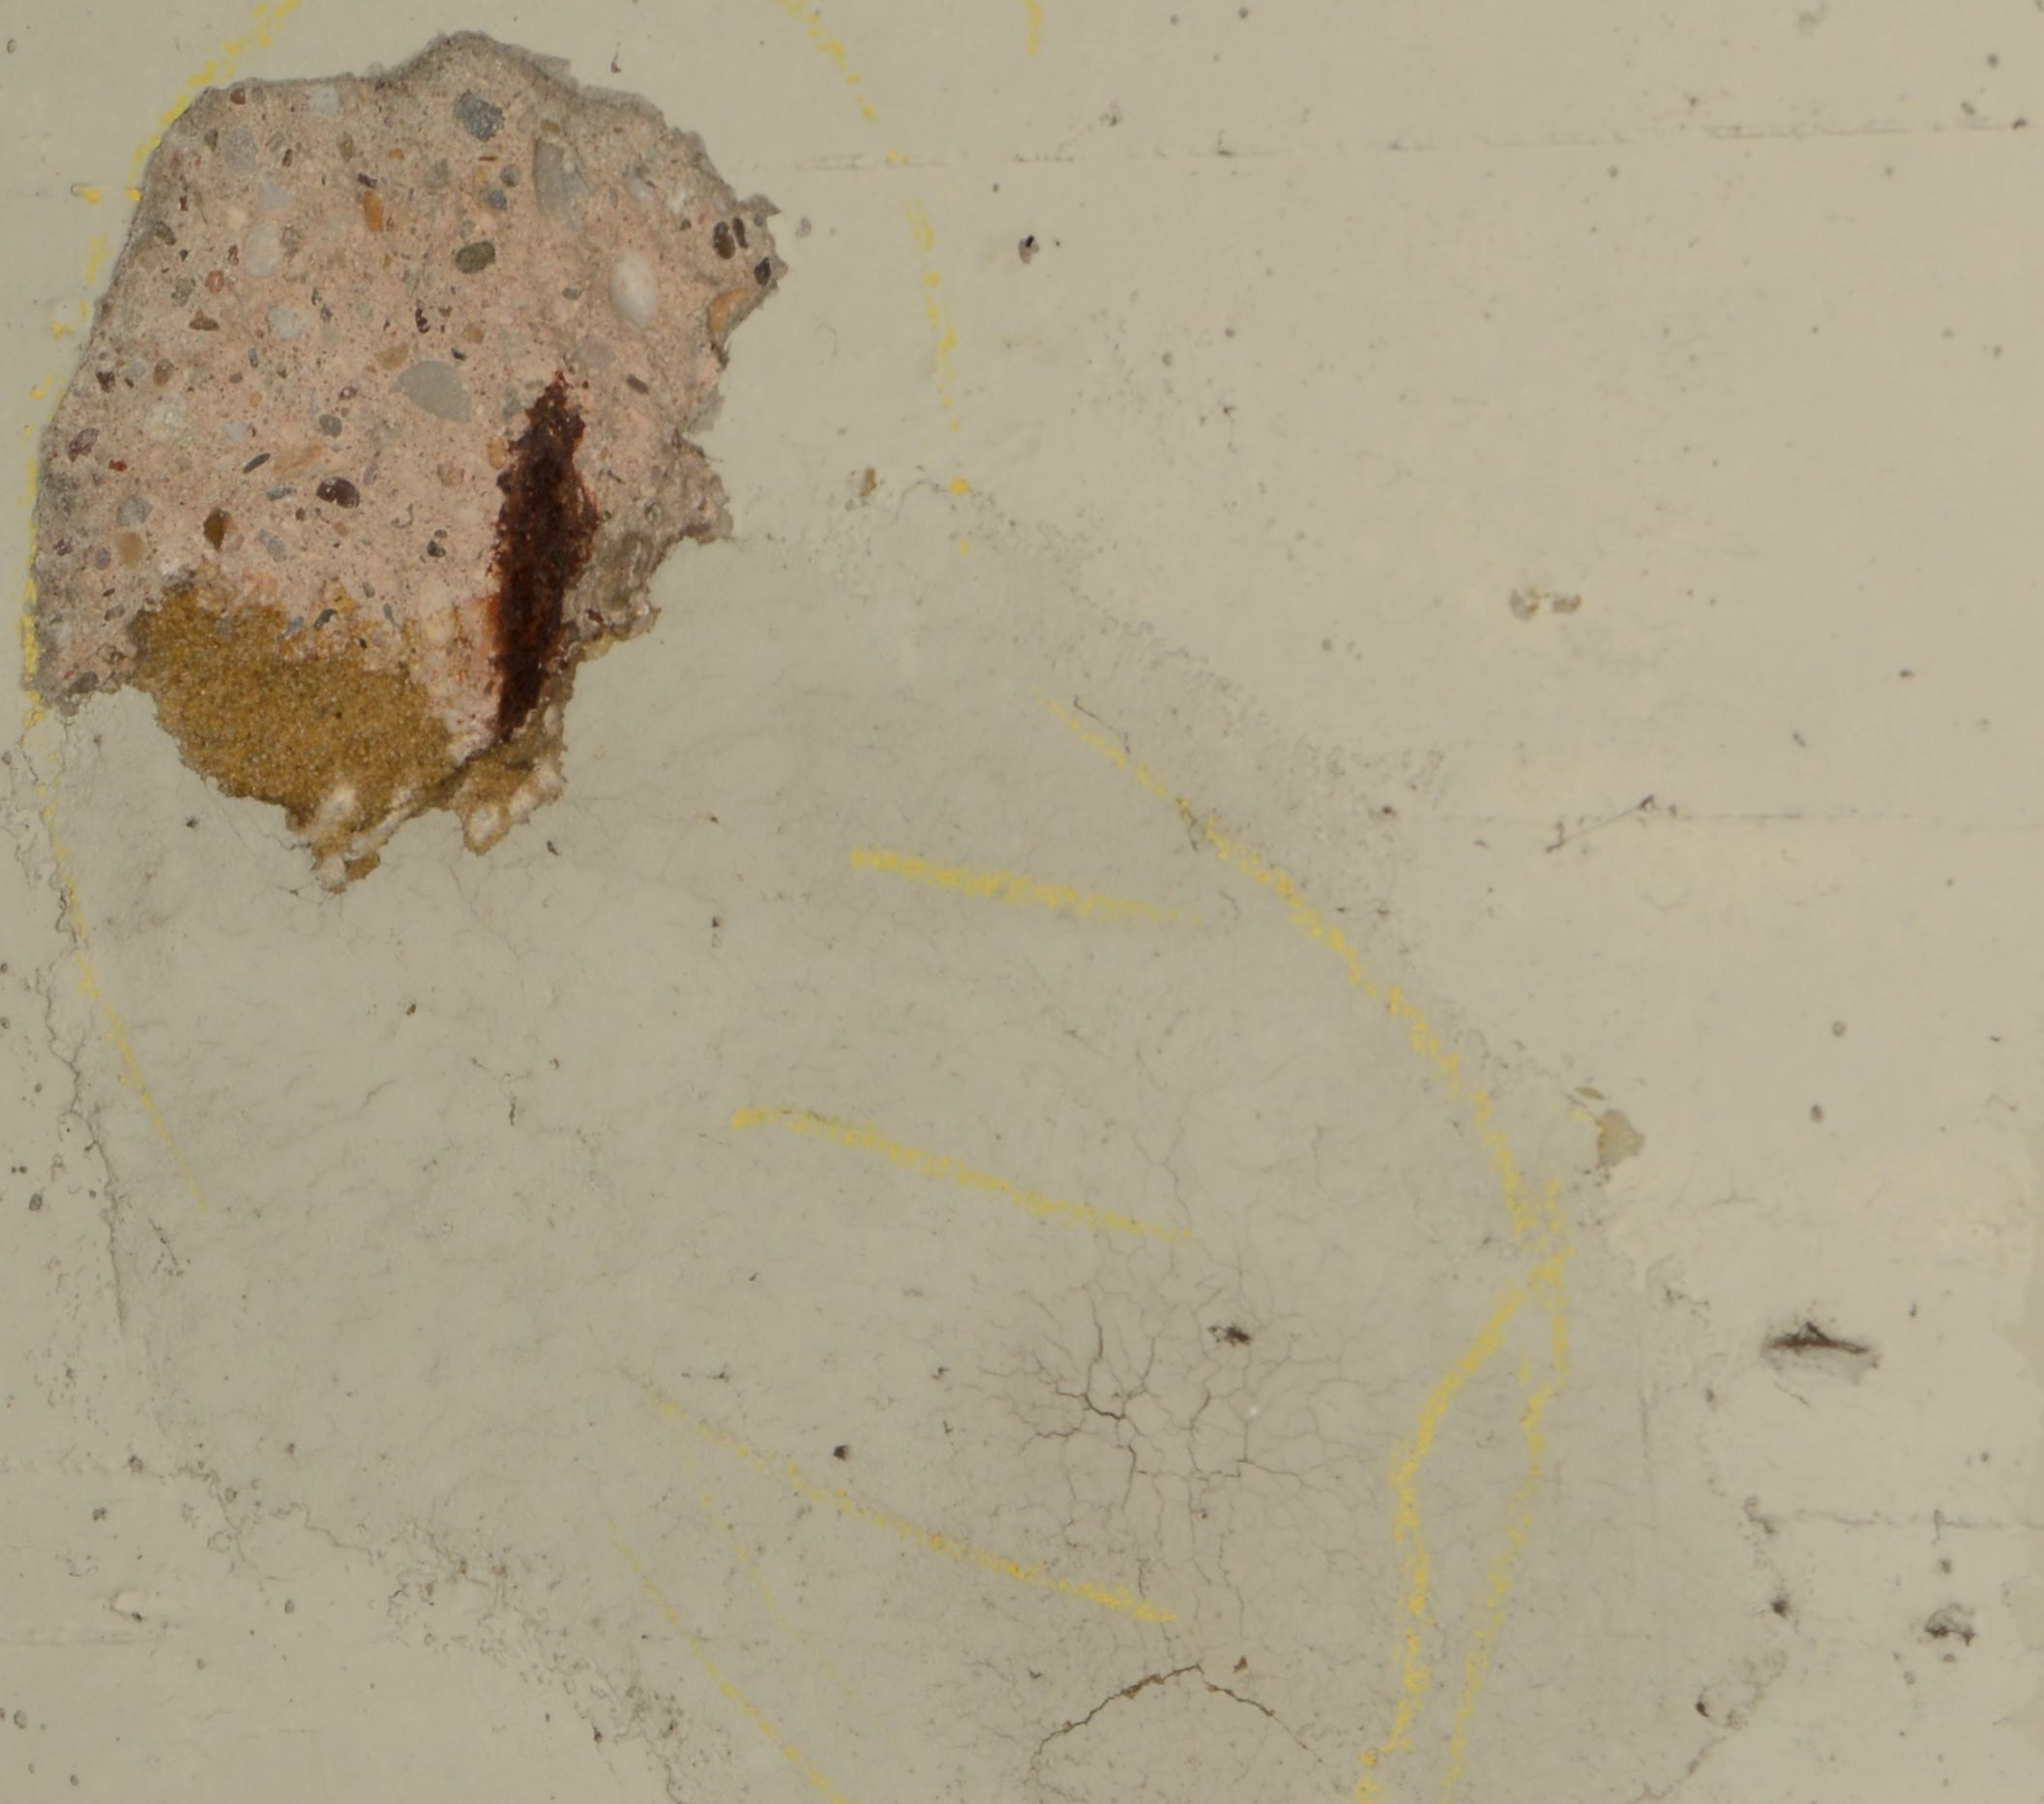Exposed reinforcement: (493, 374, 597, 744)
Spalling: (28, 28, 790, 893)
